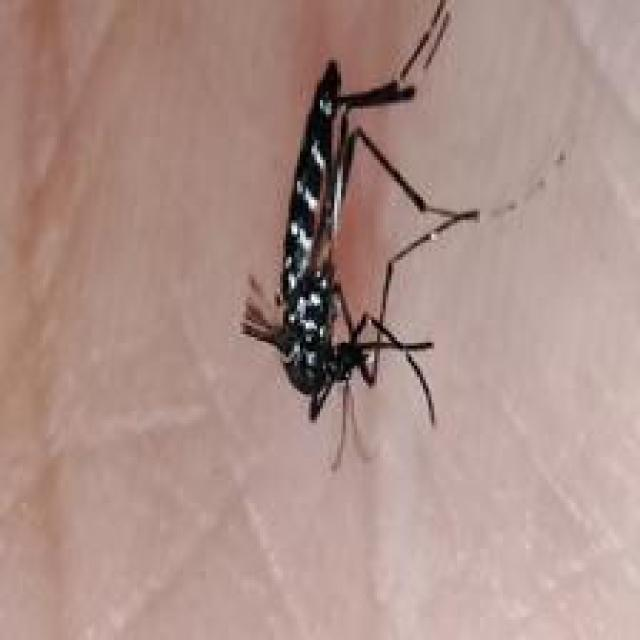Aedes albopictus: (237, 0, 480, 471)
